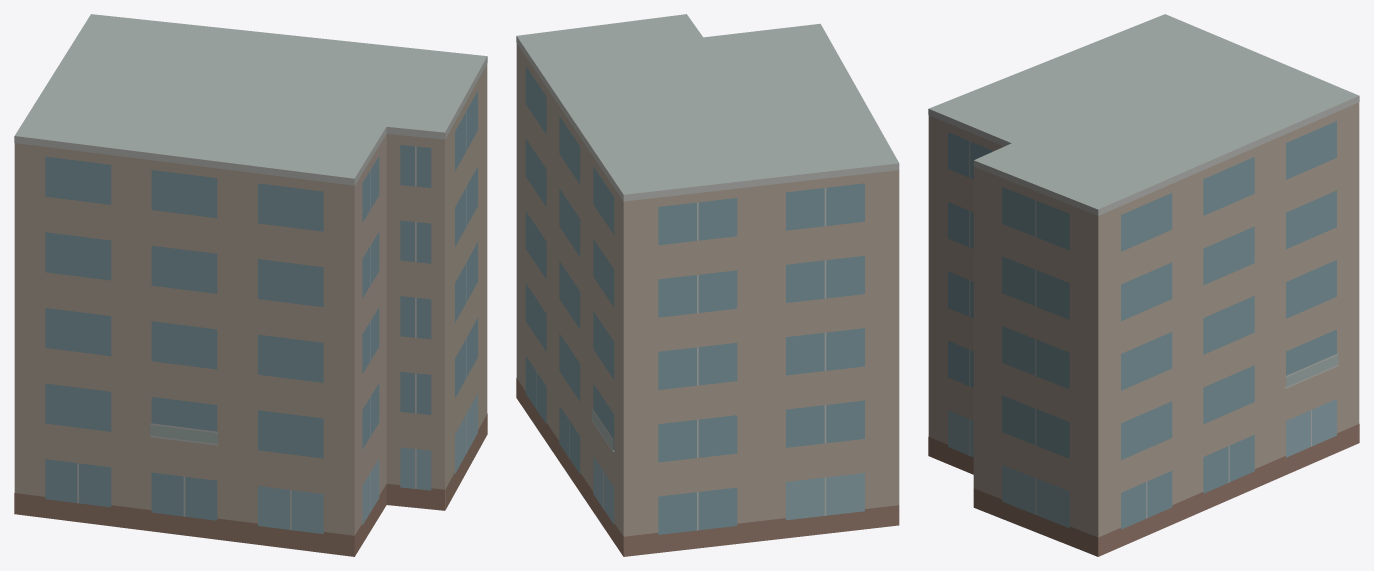
Rendered from survey-upis-32845279.glb.
The picture shows the model from 3 angles, left to right: view 1: azimuth 30°, elevation 25°; view 2: azimuth 150°, elevation 25°; view 3: azimuth 270°, elevation 25°; orthographic projection. The views are drawn at different scales.
Visible parts, largest first — view 1: survey-upis-32845279.tmp; view 2: survey-upis-32845279.tmp; view 3: survey-upis-32845279.tmp.
Boxes of the visible parts, x1,y1,x2,y2 form: survey-upis-32845279.tmp: (14, 14, 487, 556); survey-upis-32845279.tmp: (516, 14, 899, 556); survey-upis-32845279.tmp: (928, 14, 1359, 556).
Bounding box in the file's own units: 15.95 × 13.2 × 14.85.
